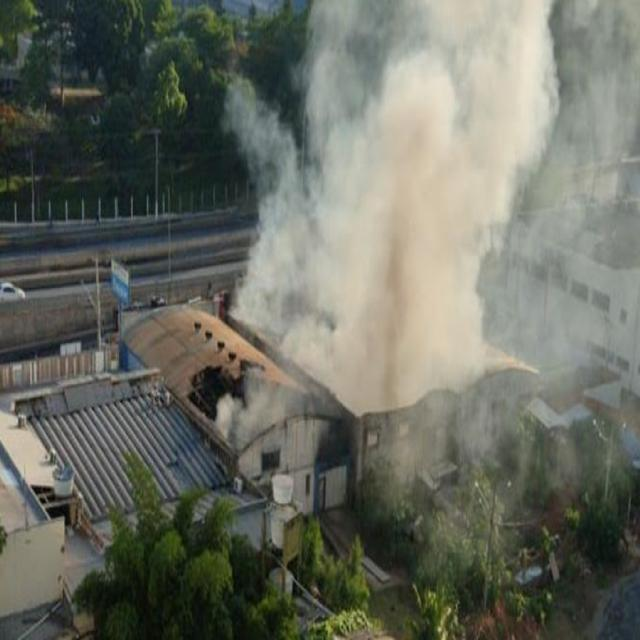Smoke: (228, 0, 638, 521)
